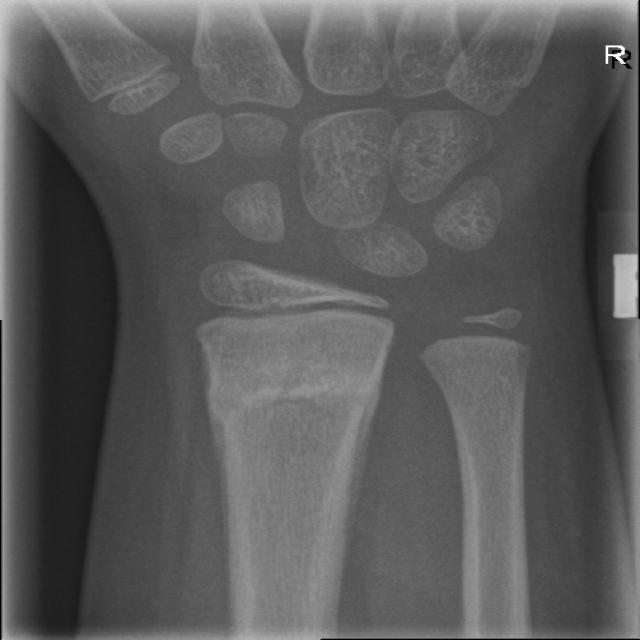radius fracture: (194, 364, 413, 570)
